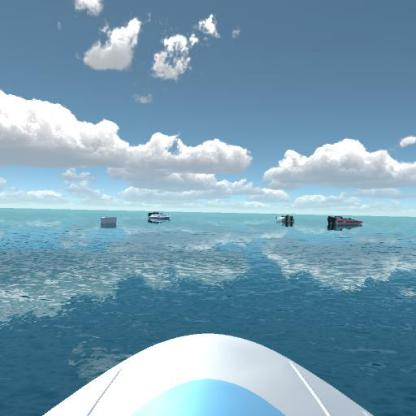usv1: (140, 206, 178, 226), (274, 210, 298, 228)
usv2: (326, 212, 365, 232)
